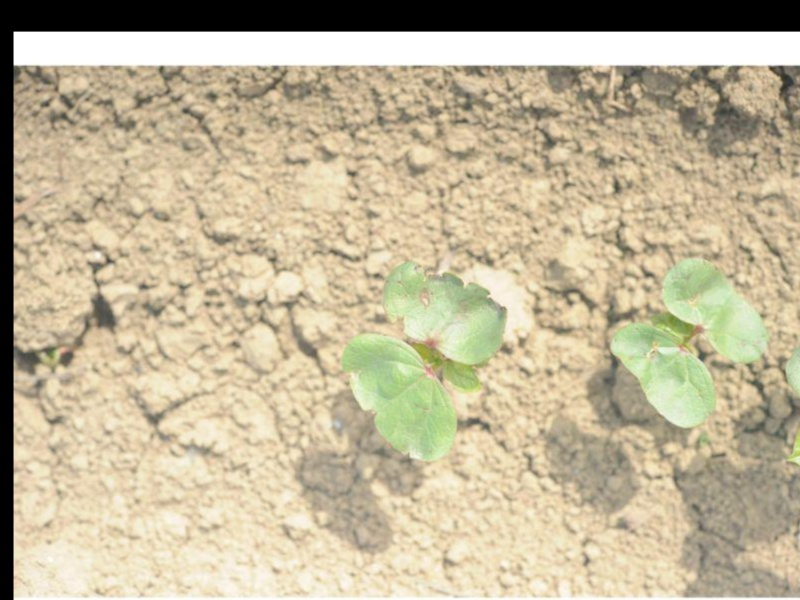cotton: (338, 257, 505, 462), (608, 254, 768, 428)
